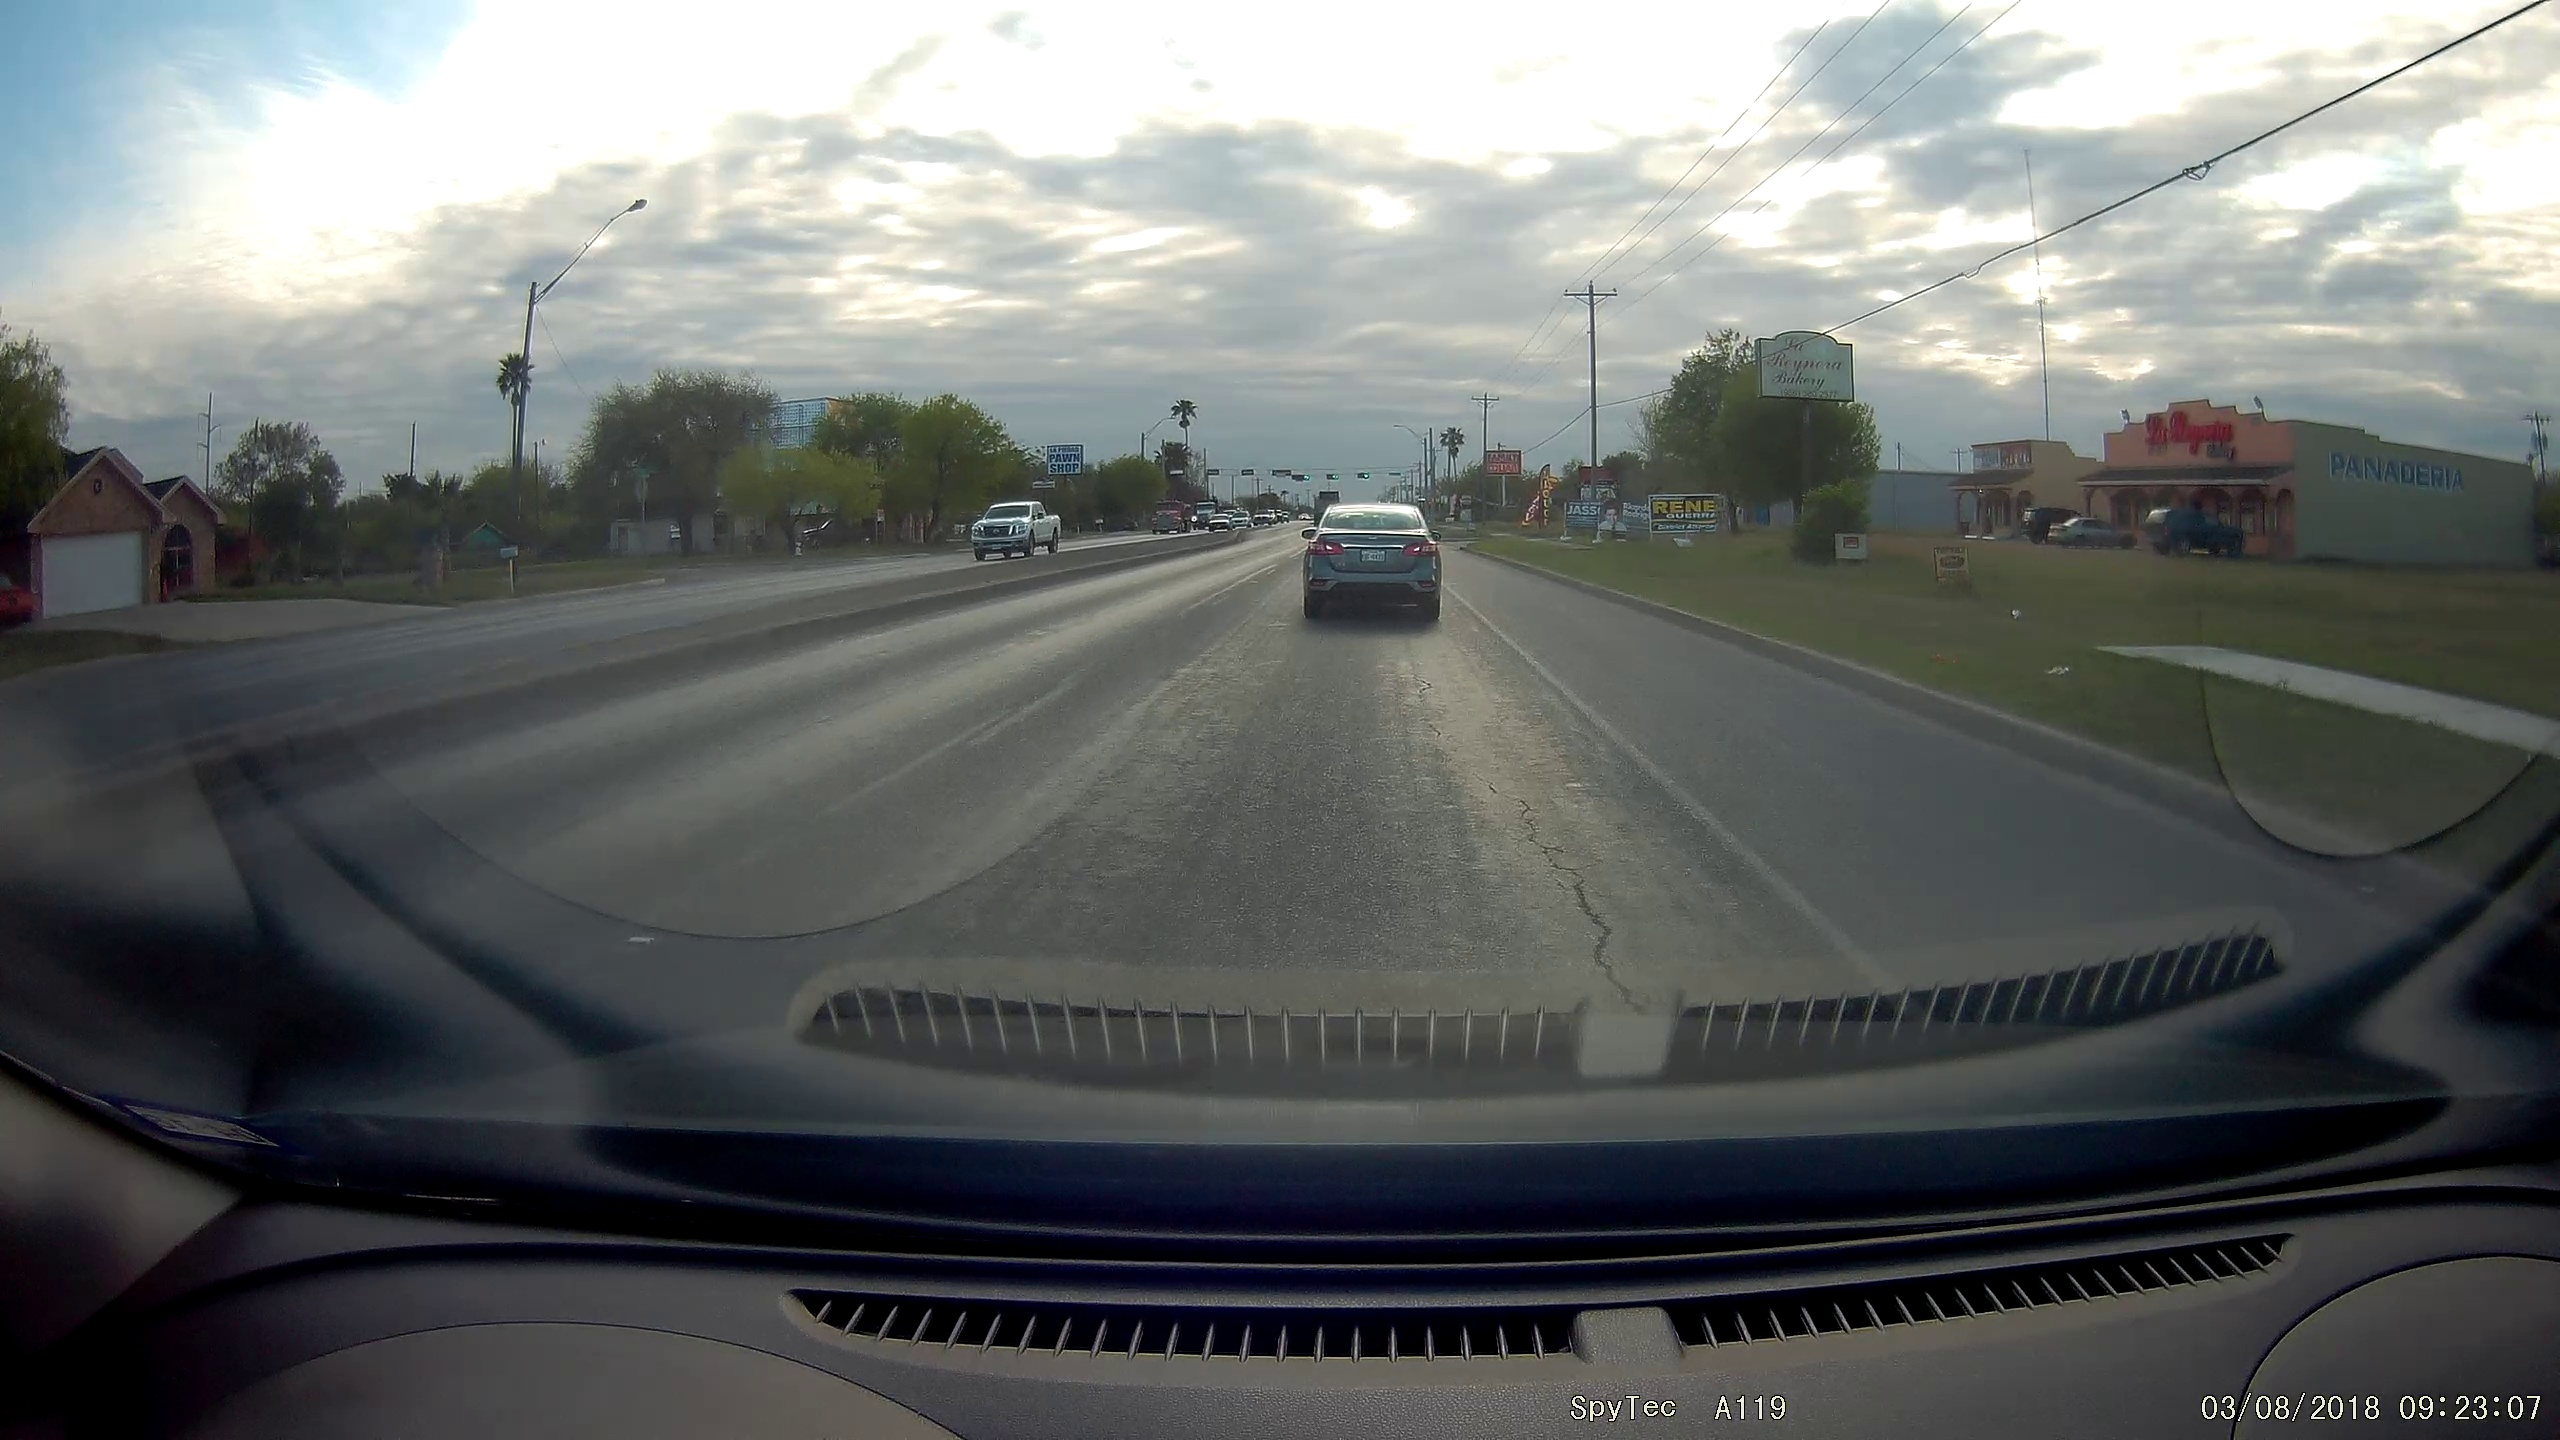blurredLine: (768, 622, 1143, 876)
crack: (1412, 652, 1684, 1020)
